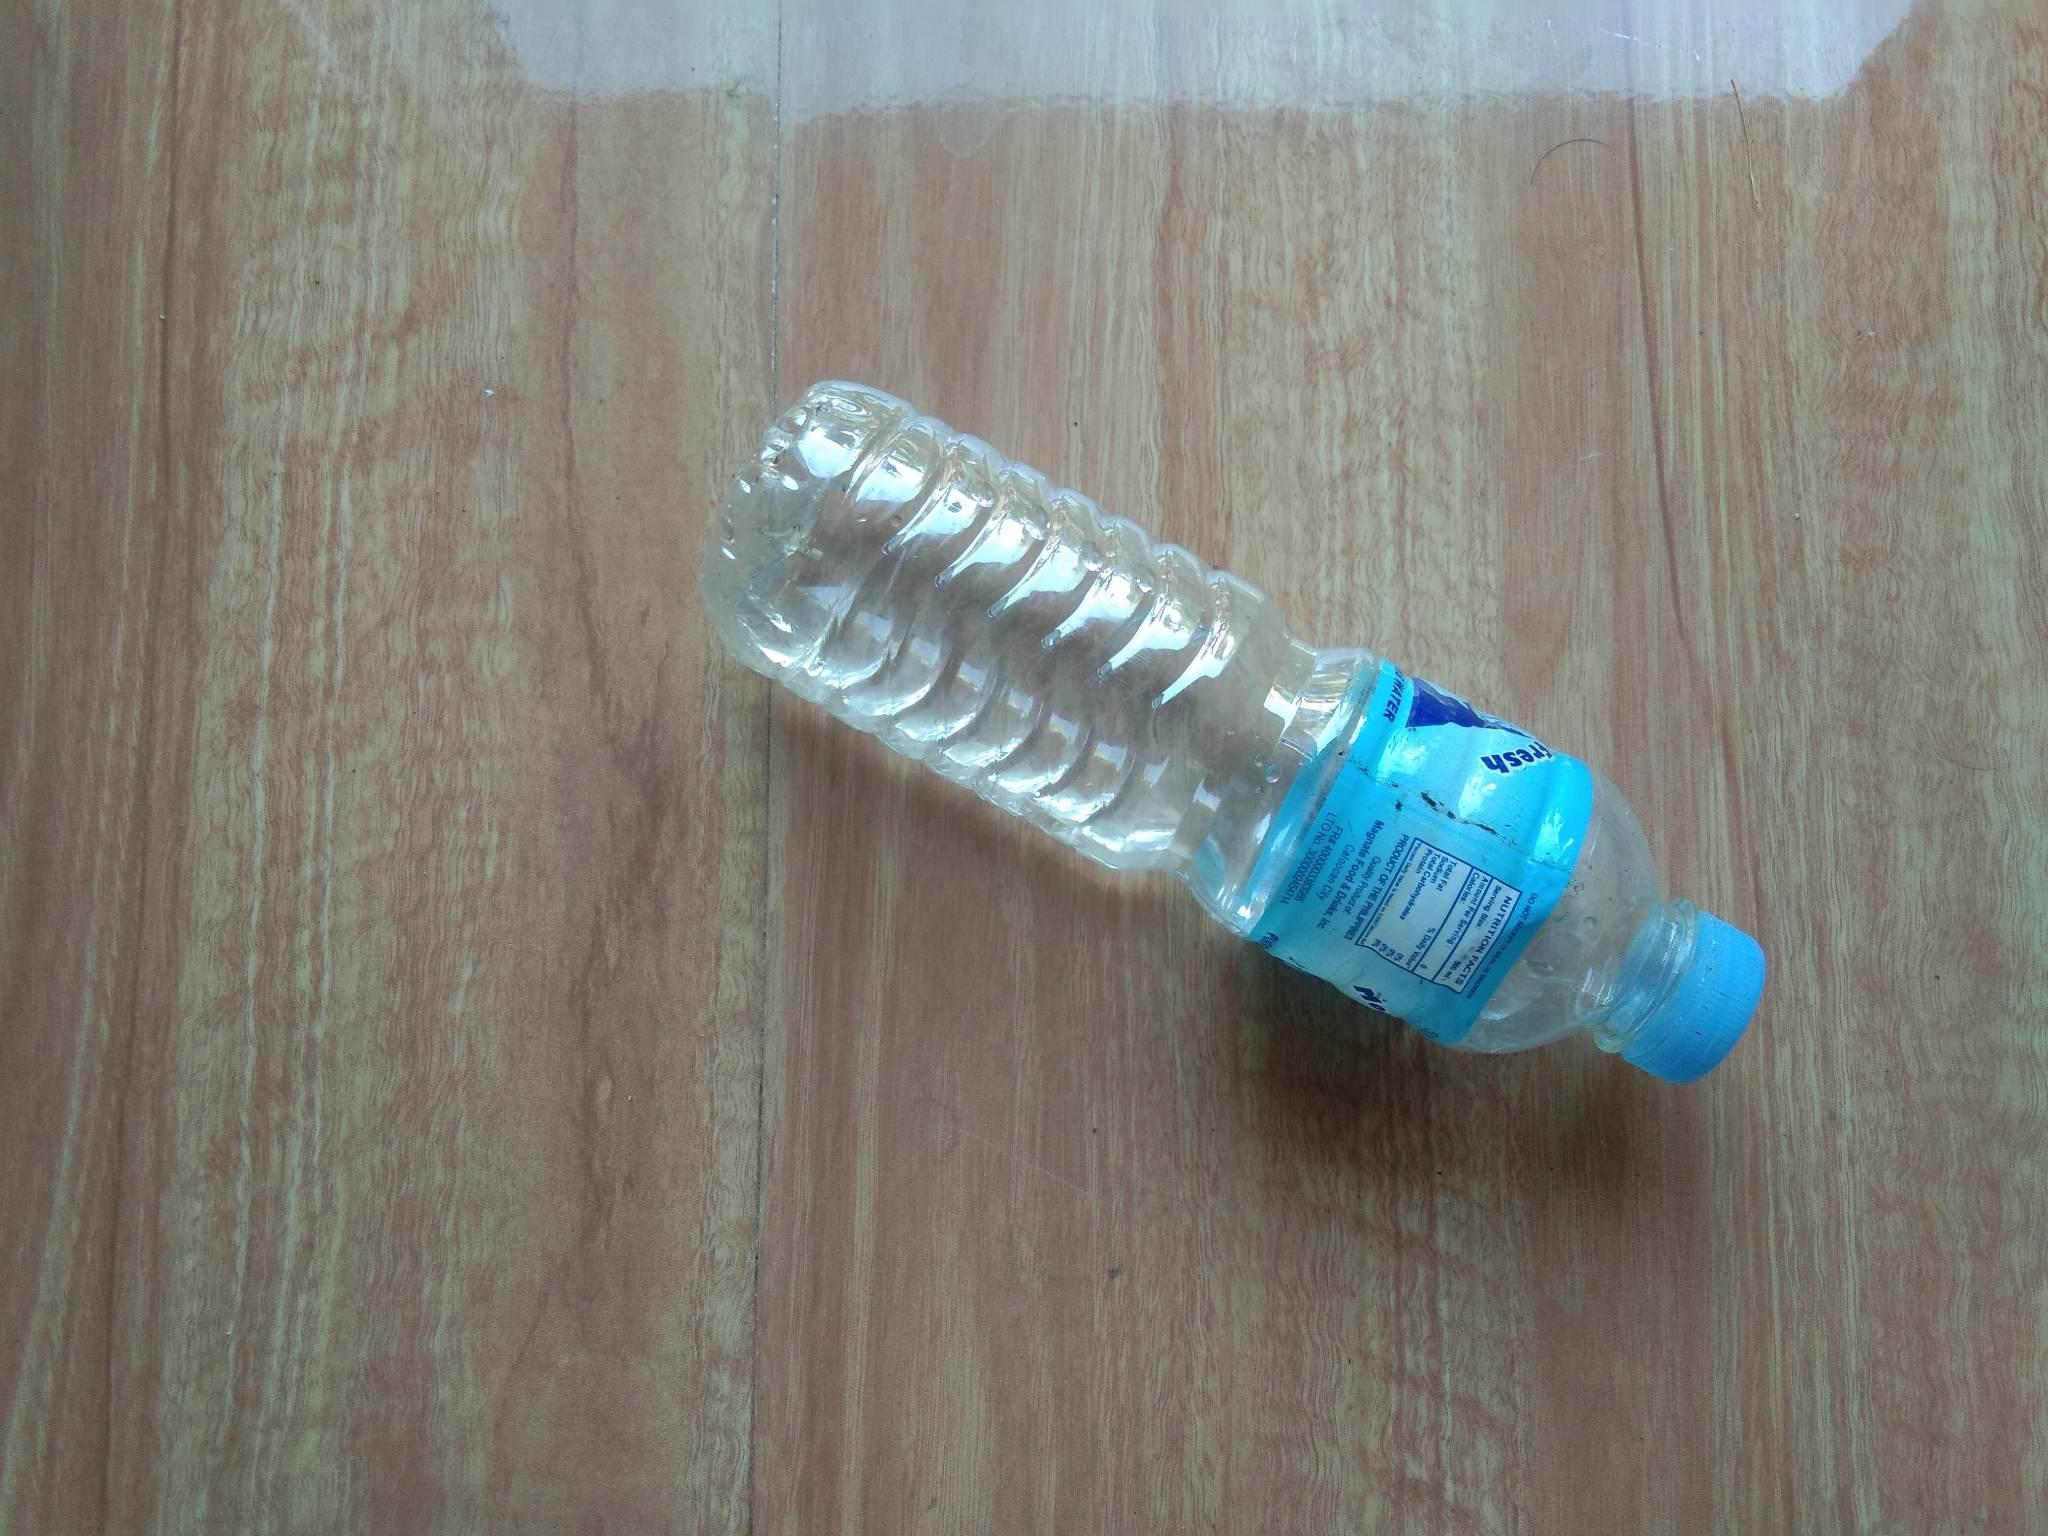plastic: (576, 328, 1851, 1176)
